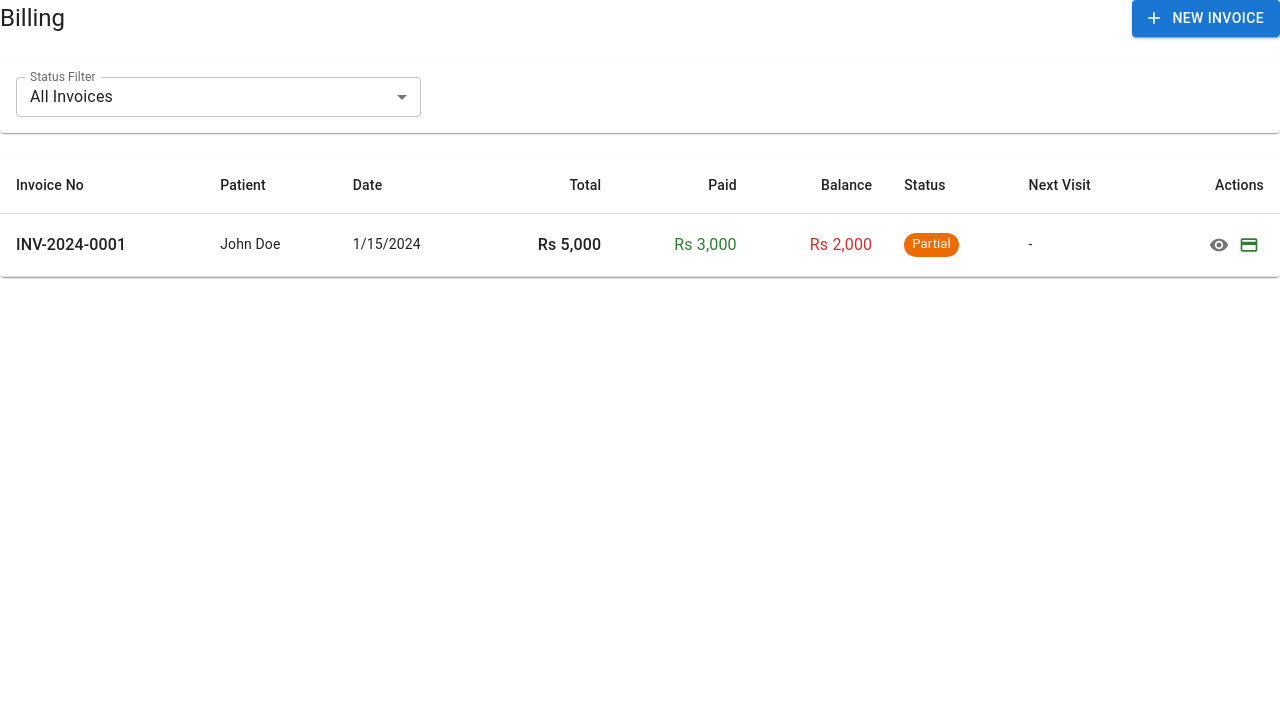
Test: Invoice Workflow Integration Tests › View Invoice Details › should show balance due in invoice details
Expected: the text "INV-2024-0001" is shown, [16,234,126,254]
# Open invoice details
Click the button named "view invoice": x=1219, y=244 [1204,230,1234,260]
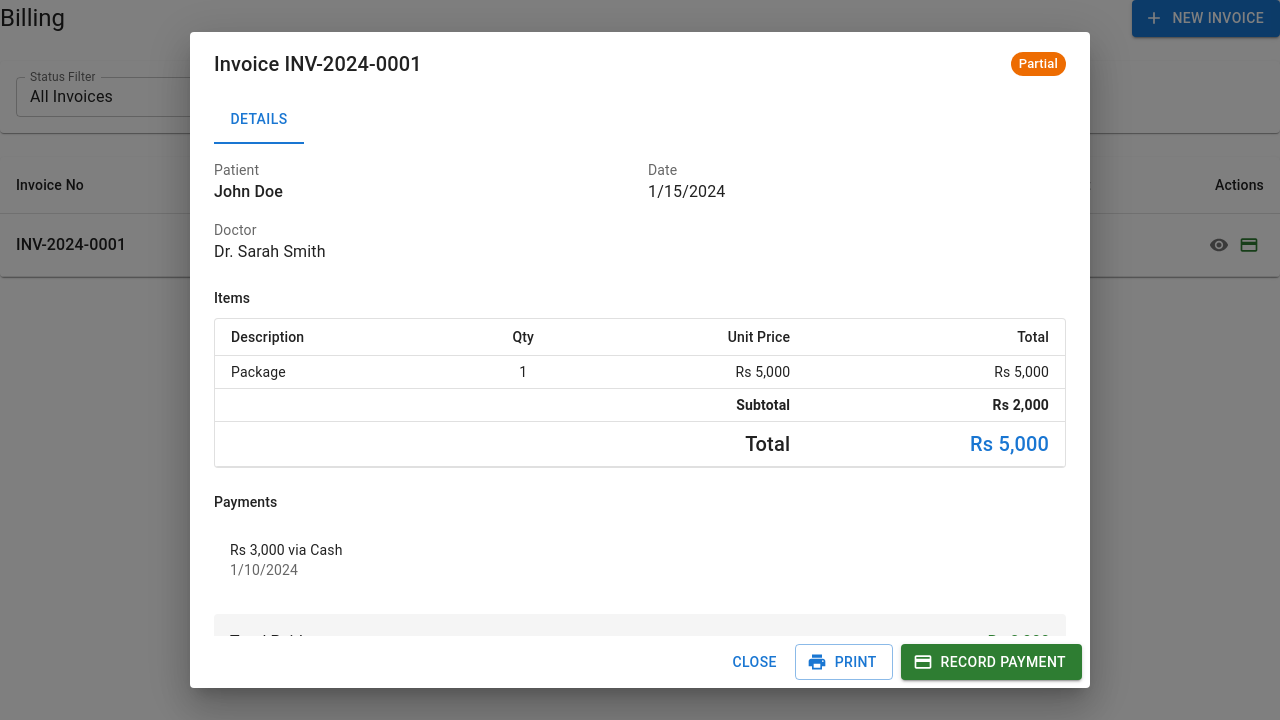
Expected: the text "Invoice INV-2024-0001" is shown, [214,48,422,80]
